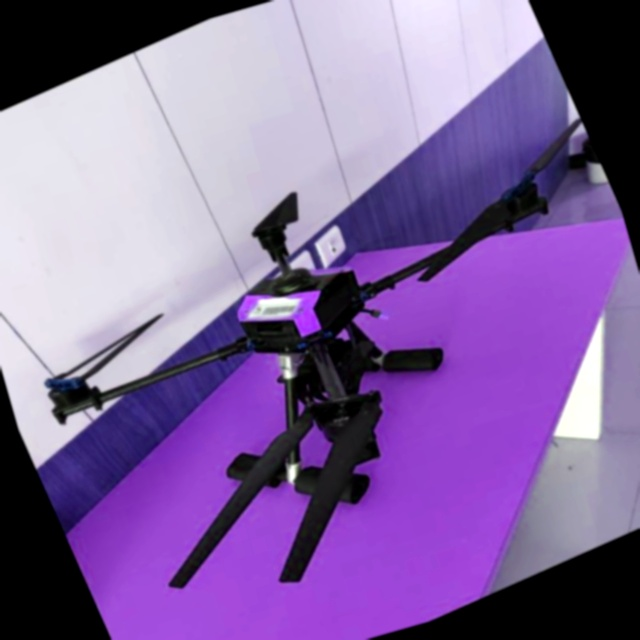quadcopter: (0, 61, 640, 640)
